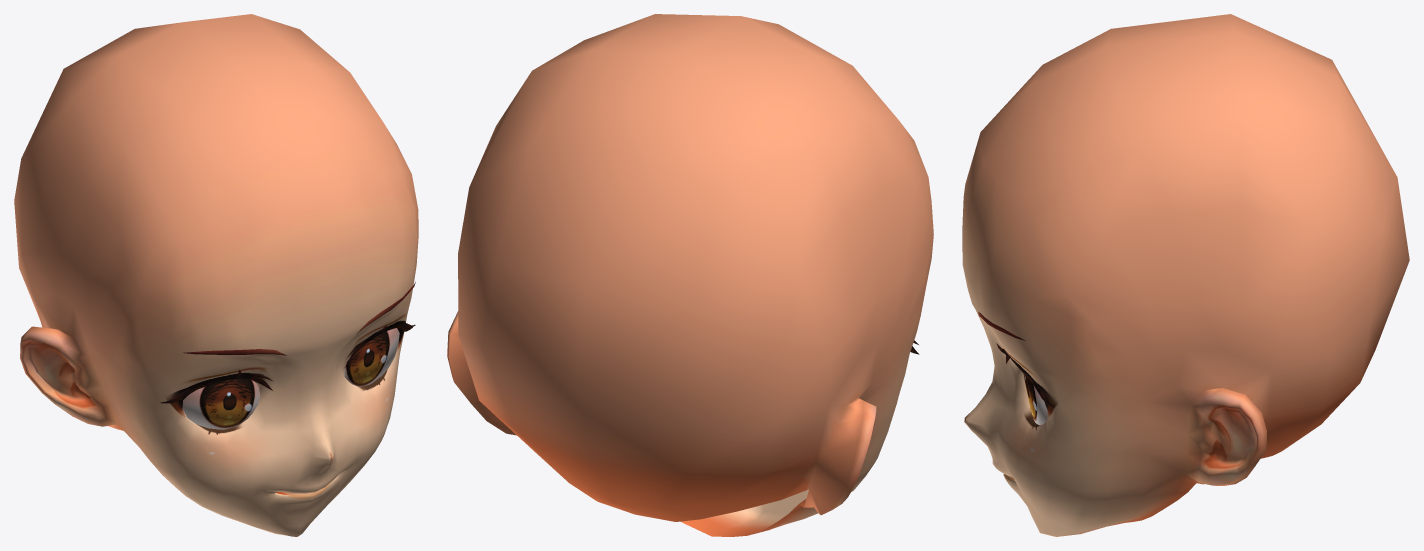
File: anime_head.glb
The picture shows the model from 3 angles, left to right: view 1: azimuth 30°, elevation 25°; view 2: azimuth 150°, elevation 25°; view 3: azimuth 270°, elevation 25°; orthographic projection. The views are drawn at different scales.
Visible parts, largest first — view 1: Object_2, Object_3; view 2: Object_2; view 3: Object_2, Object_3.
Boxes of the visible parts, box(x1,y1,x2,y2) form: Object_2: box(14, 14, 418, 536); Object_3: box(182, 328, 399, 429); Object_2: box(447, 14, 933, 536); Object_2: box(962, 14, 1409, 536); Object_3: box(1023, 374, 1047, 425).
Size of the model in its own units: 1.43 by 1.8 by 1.49.
2 materials, 2 textured.
